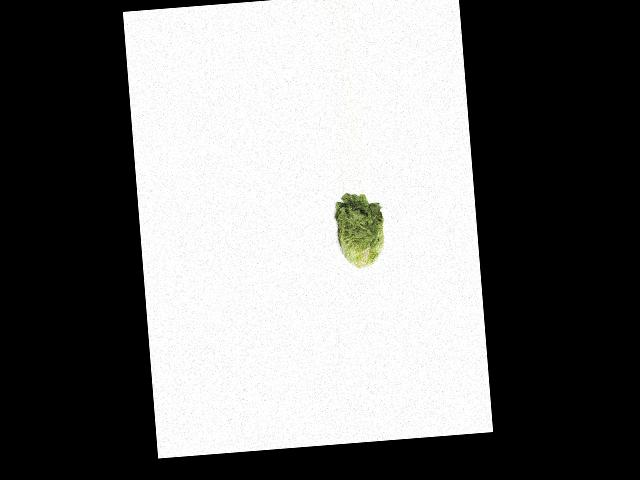lettuce: (330, 192, 391, 270)
